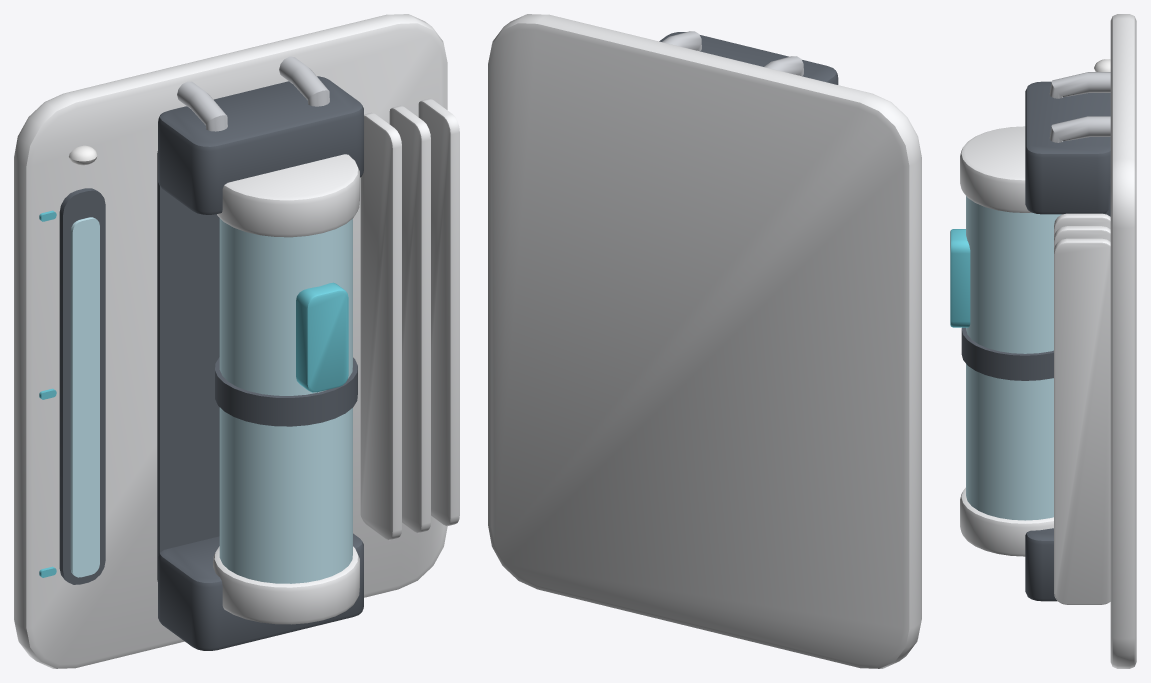
Rendered from SM_IncCoolantCore.fbx.
3 views of the same model, side by side, from view 1: azimuth 30°, elevation 25°; view 2: azimuth 150°, elevation 25°; view 3: azimuth 270°, elevation 25° (orthographic). The views are drawn at different scales.
Visible parts, largest first — view 1: IncCoolantCore, Cartridge, GaugeFill; view 2: IncCoolantCore; view 3: IncCoolantCore, Cartridge.
Boxes of the visible parts, <box> form: IncCoolantCore: <box>14,14,459,668</box>; Cartridge: <box>213,154,359,624</box>; GaugeFill: <box>70,217,99,577</box>; IncCoolantCore: <box>488,14,921,668</box>; IncCoolantCore: <box>1025,14,1136,668</box>; Cartridge: <box>950,126,1061,556</box>.
Size of the model in its own units: 0.5 by 0.64 by 0.214.
